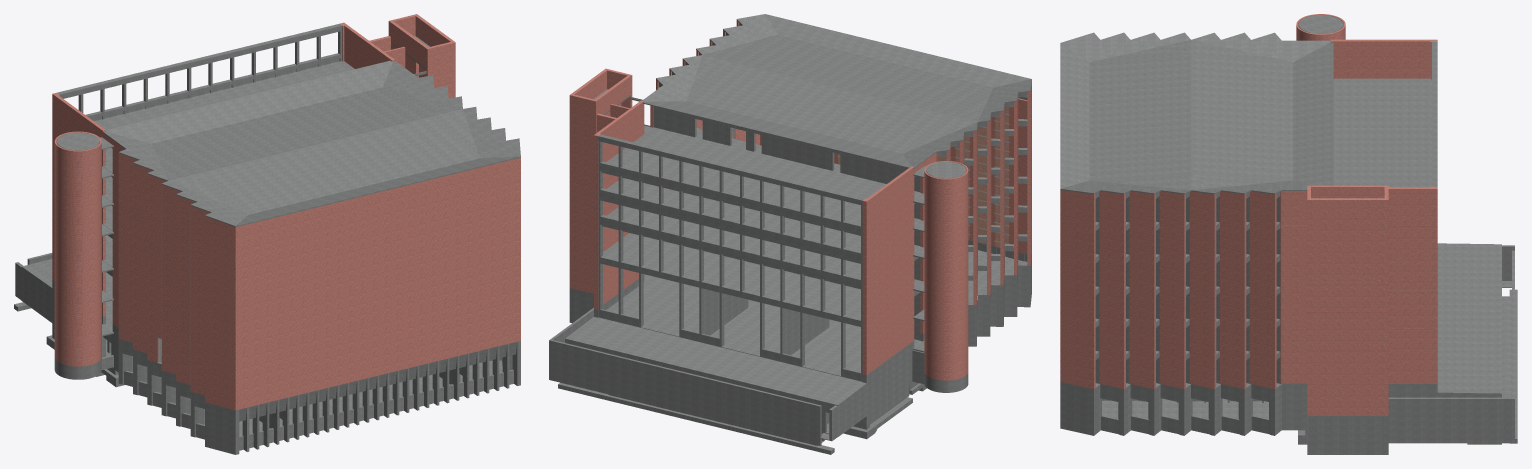
The model's file is hvhaus.glb.
3 views of the same model, side by side, from view 1: azimuth 30°, elevation 25°; view 2: azimuth 150°, elevation 25°; view 3: azimuth 270°, elevation 25° (orthographic). The views are drawn at different scales.
Visible parts, largest first — view 1: VisualSceneNode1, VisualSceneNode1.3512, VisualSceneNode1.3642, VisualSceneNode1.3577, VisualSceneNode1.4417, VisualSceneNode1.4446, VisualSceneNode1.4112, VisualSceneNode1.4460, VisualSceneNode1.4434, VisualSceneNode1.3707, VisualSceneNode1.4463, VisualSceneNode1.312 (+48 smaller); view 2: VisualSceneNode1.958, VisualSceneNode1.312, VisualSceneNode1.3933, VisualSceneNode1.320, VisualSceneNode1.162, VisualSceneNode1.4434, VisualSceneNode1.4460, VisualSceneNode1.4113, VisualSceneNode1.4446, VisualSceneNode1.4417, VisualSceneNode1.311, VisualSceneNode1.310 (+49 smaller); view 3: VisualSceneNode1.312, VisualSceneNode1.3933, VisualSceneNode1.4446, VisualSceneNode1.4417, VisualSceneNode1.4434, VisualSceneNode1.4460, VisualSceneNode1.964, VisualSceneNode1.4345, VisualSceneNode1.4388, VisualSceneNode1.813, VisualSceneNode1.4463, VisualSceneNode1.4370 (+73 smaller).
Boxes of the visible parts, x1,y1,x2,y2 form: VisualSceneNode1: (226,284,520,410); VisualSceneNode1.3512: (226,248,520,353); VisualSceneNode1.3642: (226,190,520,288); VisualSceneNode1.3577: (226,219,520,317); VisualSceneNode1.4417: (249,116,479,214); VisualSceneNode1.4446: (200,117,429,214); VisualSceneNode1.4112: (236,158,519,245); VisualSceneNode1.4460: (152,87,430,143); VisualSceneNode1.4434: (152,116,430,172); VisualSceneNode1.3707: (226,177,520,259); VisualSceneNode1.4463: (106,60,392,130); VisualSceneNode1.312: (94,61,354,170); VisualSceneNode1.958: (549,339,821,445); VisualSceneNode1.312: (600,127,920,233); VisualSceneNode1.3933: (565,317,866,406); VisualSceneNode1.320: (598,276,920,381); VisualSceneNode1.162: (598,233,920,321); VisualSceneNode1.4434: (733,62,947,153); VisualSceneNode1.4460: (687,62,901,153); VisualSceneNode1.4113: (653,106,920,192); VisualSceneNode1.4446: (733,62,993,114); VisualSceneNode1.4417: (732,34,991,87); VisualSceneNode1.311: (600,178,920,260); VisualSceneNode1.310: (600,206,920,287); VisualSceneNode1.312: (1333,78,1431,187); VisualSceneNode1.3933: (1436,243,1501,395); VisualSceneNode1.4446: (1090,56,1191,173); VisualSceneNode1.4417: (1089,62,1190,180); VisualSceneNode1.4434: (1191,56,1292,173); VisualSceneNode1.4460: (1191,63,1292,180); VisualSceneNode1.964: (1388,397,1511,443); VisualSceneNode1.4345: (1307,350,1384,415); VisualSceneNode1.4388: (1307,198,1384,251); VisualSceneNode1.813: (1331,39,1430,78); VisualSceneNode1.4463: (1293,42,1333,185); VisualSceneNode1.4370: (1307,312,1384,350).
Bounding box in the file's own units: 46.54 × 30.13 × 44.97.
Materials: 9 (5 with a texture image).
